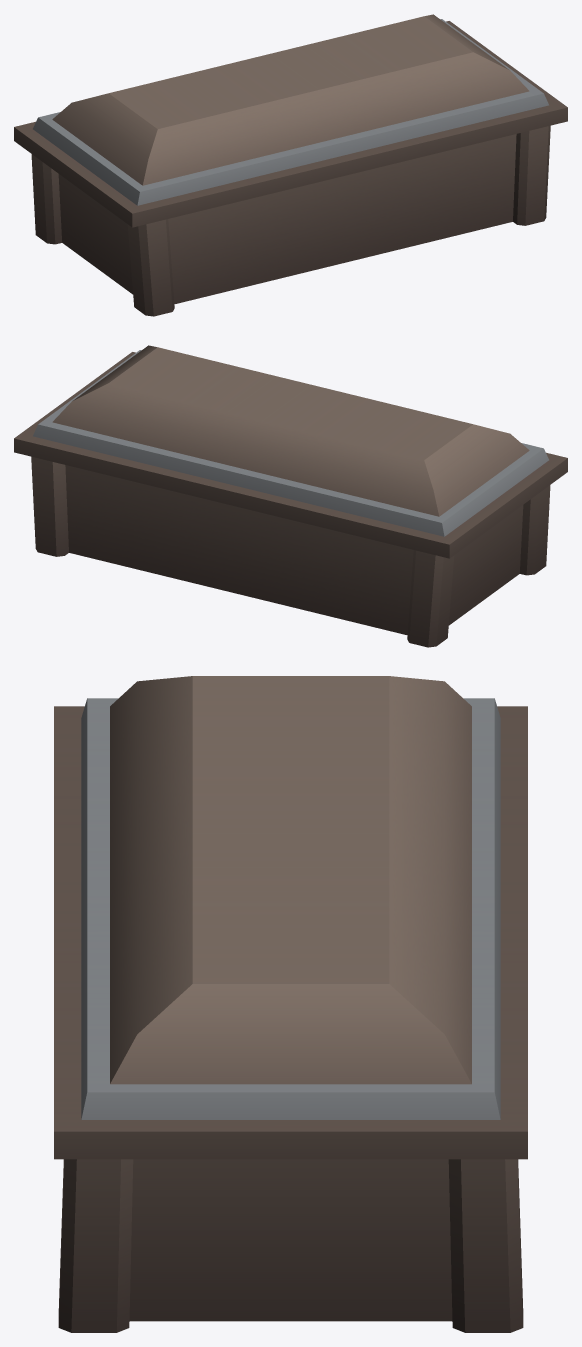
Rendered from SM_Coffin.fbx.
3 renders of one model, top to bottom at view 1: azimuth 30°, elevation 25°; view 2: azimuth 150°, elevation 25°; view 3: azimuth 270°, elevation 25°, orthographic. The views are drawn at different scales.
Visible parts, largest first — view 1: Coffin_Lid, Coffin_Base; view 2: Coffin_Lid, Coffin_Base; view 3: Coffin_Lid, Coffin_Base.
Part boxes in pixels (left/top/right/bottom): Coffin_Lid: left=14, top=14, right=567, bottom=227; Coffin_Base: left=31, top=125, right=550, bottom=316; Coffin_Lid: left=14, top=345, right=567, bottom=558; Coffin_Base: left=31, top=456, right=550, bottom=647; Coffin_Lid: left=54, top=676, right=527, bottom=1159; Coffin_Base: left=58, top=1159, right=523, bottom=1332.
Bounding box in the file's own units: 482 × 163 × 227.
